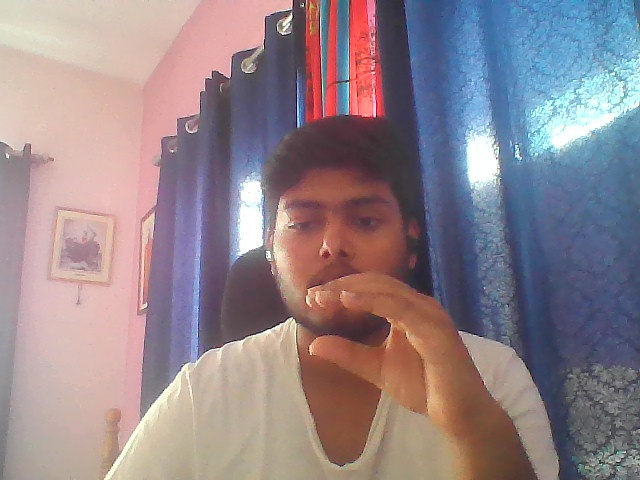No: (284, 268, 514, 423)
